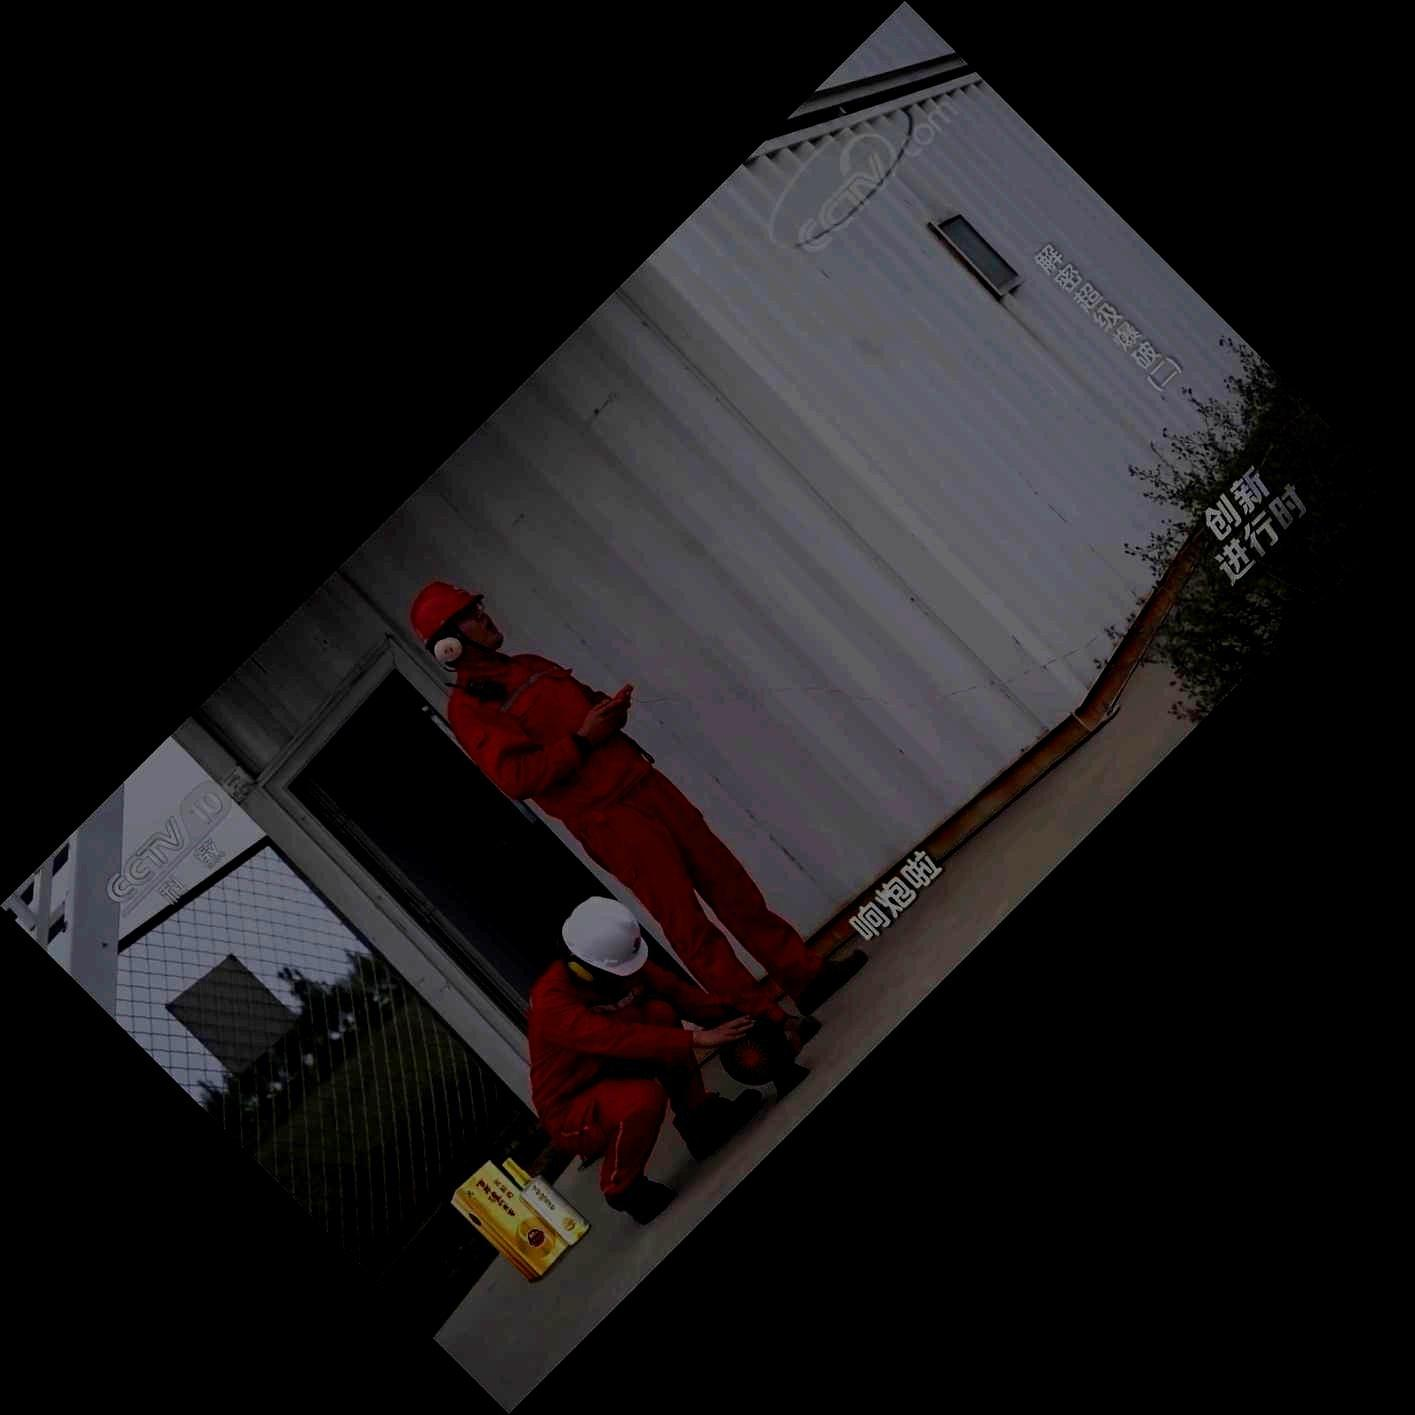helmet: (409, 577, 504, 661), (562, 895, 648, 982)
